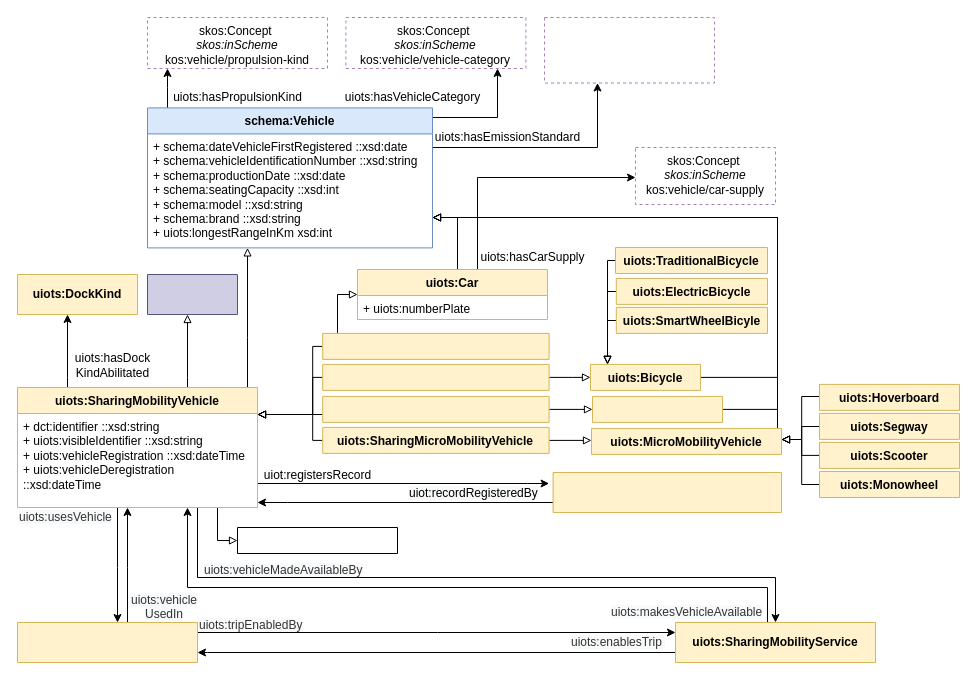
The diagram is 977 pixels wide and 680 high, and some of its shapes have lost their labels. Here are the shapes that lost their labels. From the top down, the centre of each, then its label:
At point (629, 49): "skos:Concept skos:inScheme kos:vehicle/european-emission-standard".
At point (192, 294): "sosa:Sensor".
At point (435, 345): "uiots:SharingMobilityCar".
At point (435, 376): "uiots:SharingMobilityBicycle".
At point (435, 408): "uiots:SharingMobilityMotorcycle".
At point (657, 408): "uiots:Motorcycle".
At point (667, 492): "uiots:SharingMobilityVehicleRecord".
At point (317, 540): "uiot:ServiceResource".
At point (107, 642): "uiots:SharingMobilityTrip".
